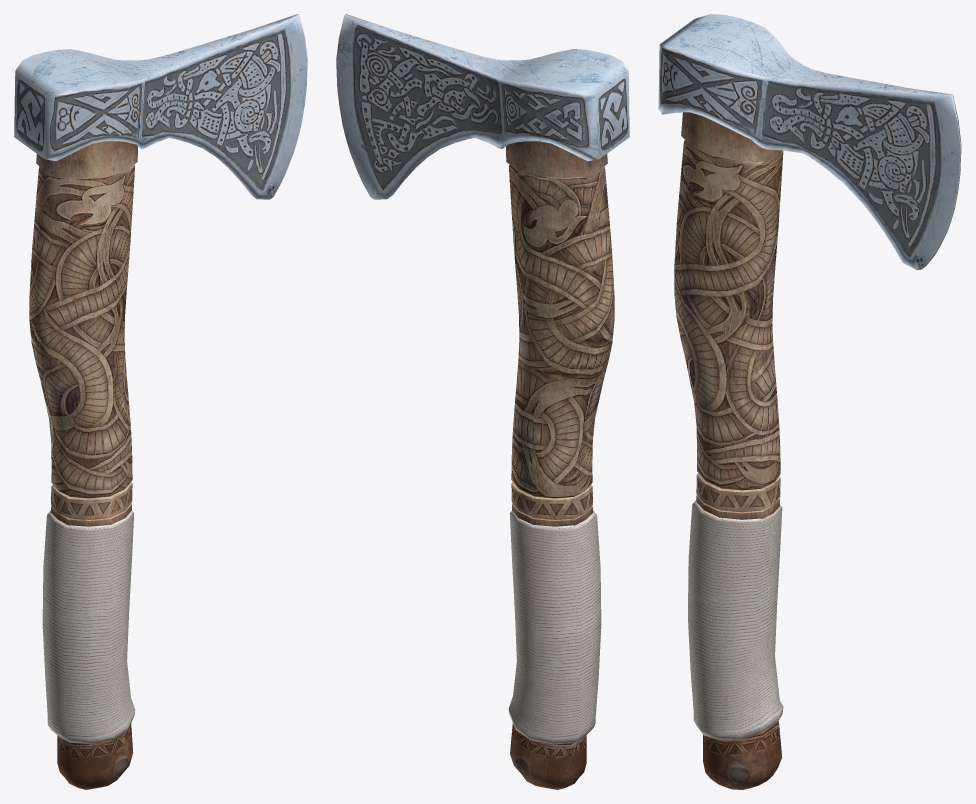
Rendered from whbeardedaxe.glb.
3 views of the same model, side by side, from view 1: azimuth 30°, elevation 25°; view 2: azimuth 150°, elevation 25°; view 3: azimuth 330°, elevation 25° (orthographic). The views are drawn at different scales.
Parts seen in each view (by area): view 1: woodenHandle_low, metalHead_low, handWrap_low; view 2: woodenHandle_low, metalHead_low, handWrap_low; view 3: woodenHandle_low, metalHead_low, handWrap_low.
Boxes of the visible parts, x1,y1,x2,y2 form: woodenHandle_low: (29,141,137,789); metalHead_low: (14,14,307,199); handWrap_low: (42,511,135,744); woodenHandle_low: (506,141,614,789); metalHead_low: (336,14,629,199); handWrap_low: (508,511,601,744); woodenHandle_low: (674,112,783,789); metalHead_low: (658,14,961,270); handWrap_low: (688,500,783,740).
Bounding box in the file's own units: 0.2222 × 0.551 × 0.0664.
1 material, 1 textured.
